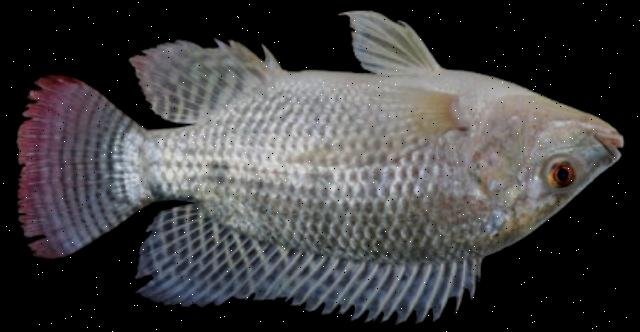Mulut: (580, 90, 638, 188)
Sirip Anal: (112, 28, 282, 126)
Sirip Dada: (279, 81, 476, 177)
Sirip Ekor: (6, 65, 142, 273)
Sirip Perut: (321, 0, 454, 82)
Sirip Punggung: (130, 195, 484, 331)
